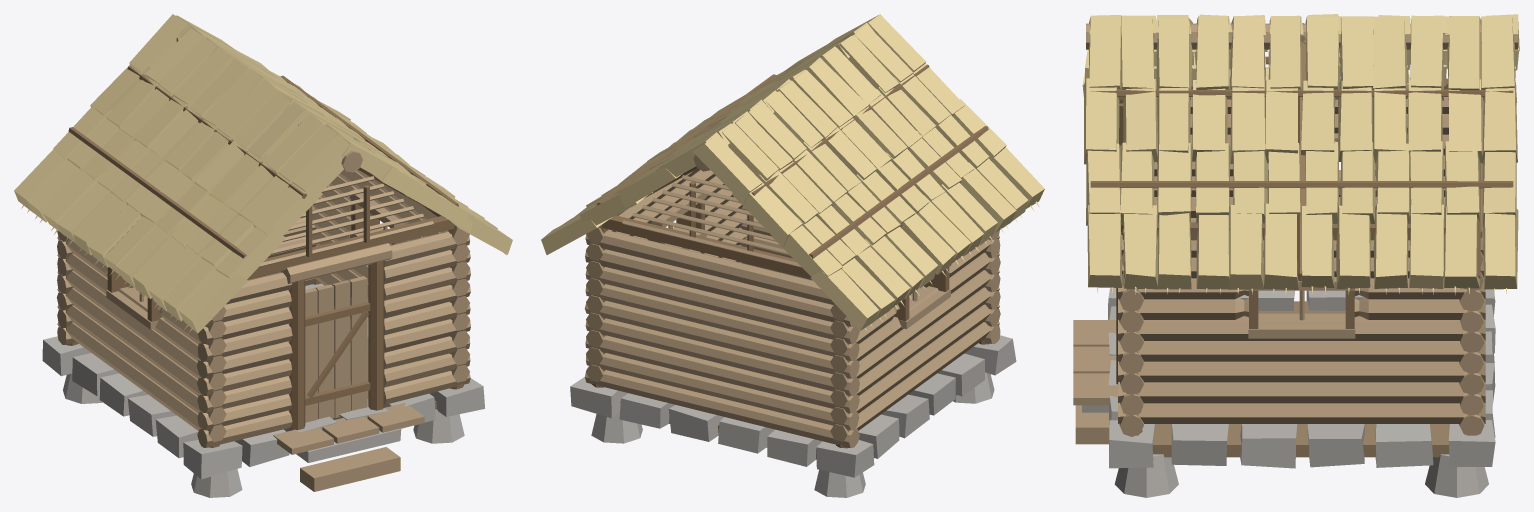
Rendered from building_granary_complete.glb.
3 renders of one model, left to right at view 1: azimuth 30°, elevation 25°; view 2: azimuth 150°, elevation 25°; view 3: azimuth 270°, elevation 25°, orthographic. The views are drawn at different scales.
Parts seen in each view (by area): view 1: building_granary_complete; view 2: building_granary_complete; view 3: building_granary_complete.
Part boxes in pixels (x1,y1,x2,y2): building_granary_complete: (14,14,512,497); building_granary_complete: (541,14,1044,497); building_granary_complete: (1073,14,1519,497).
Size of the model in its own units: 3.97 by 3.88 by 3.89.
